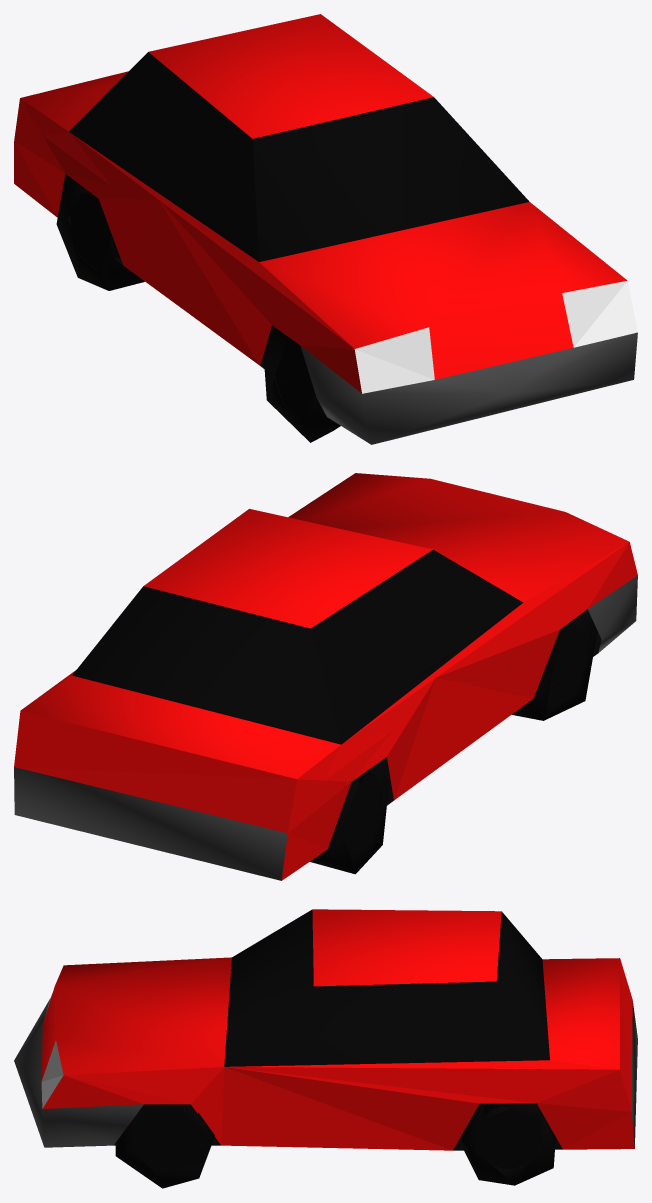
Rendered from Car.dae.
The picture shows the model from 3 angles, top to bottom: view 1: azimuth 30°, elevation 25°; view 2: azimuth 150°, elevation 25°; view 3: azimuth 270°, elevation 25°; orthographic projection. The views are drawn at different scales.
Parts seen in each view (by area): view 1: Car; view 2: Car; view 3: Car.
Boxes of the visible parts, left/top/right/bottom form: Car: left=14, top=14, right=637, bottom=444; Car: left=14, top=473, right=637, bottom=880; Car: left=14, top=909, right=637, bottom=1188.
Bounding box in the file's own units: 2.13 × 4.69 × 1.57.
